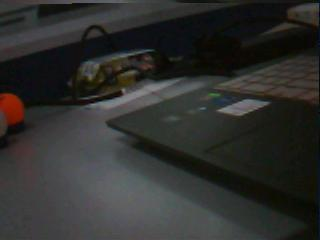oball: (1, 94, 24, 122)
